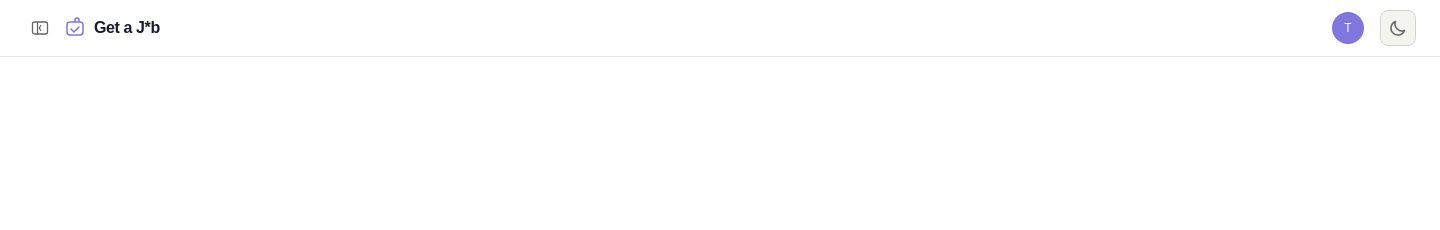
Test case: Header › toggles user menu
Click the button "U" at [1348, 28], box [1332, 12, 1364, 44]
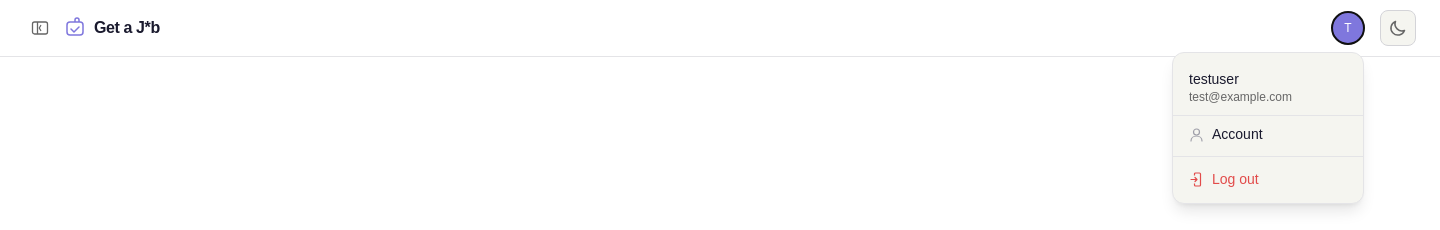
Expected: the link "Account" is shown, [1189, 126, 1263, 142]
